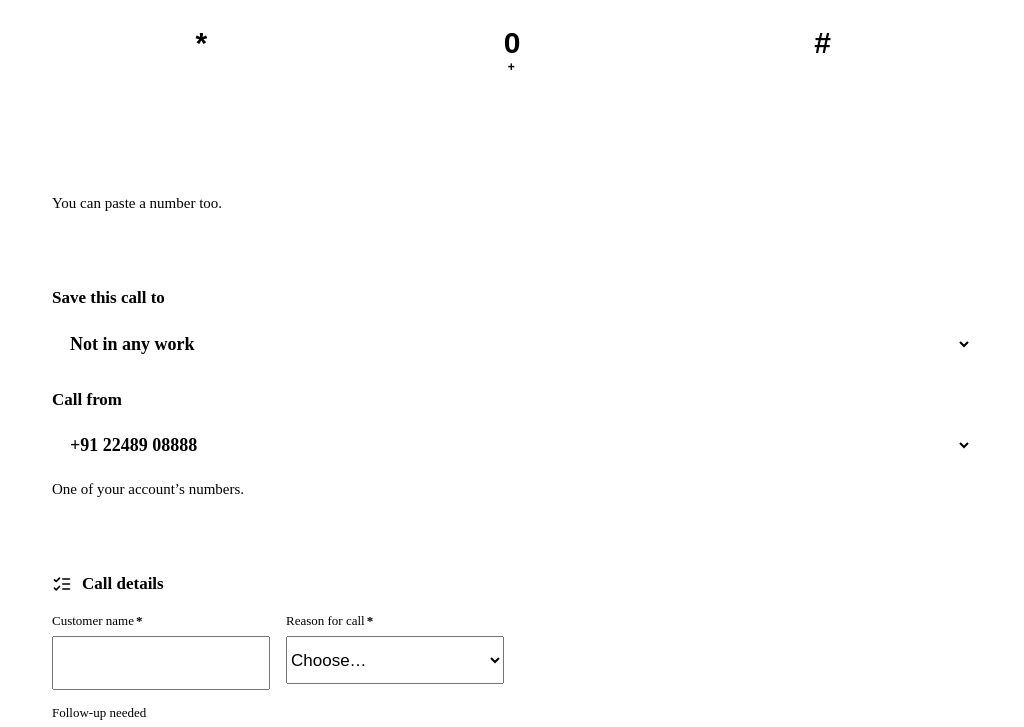
Test: Ready › says a closed window is the campaign’s time, which the customer’s own may not share
(page scrolled)
Step 1. Select "Home Loan Renewals" in the dropdown with test id "log-to-select" → (512, 344), box x1=52 y1=316 x2=972 y2=372
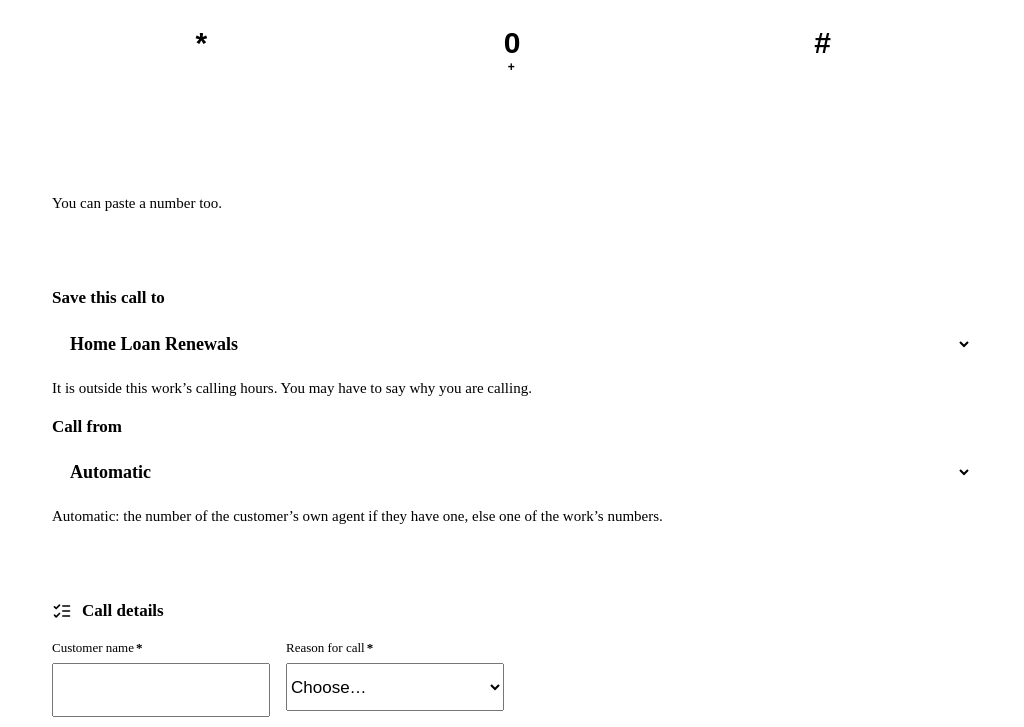
Check: the text with test id "window-closed-hint" shows "It is outside this work’s calling hours. You may have to say why you are calling.", box x1=52 y1=380 x2=532 y2=396
